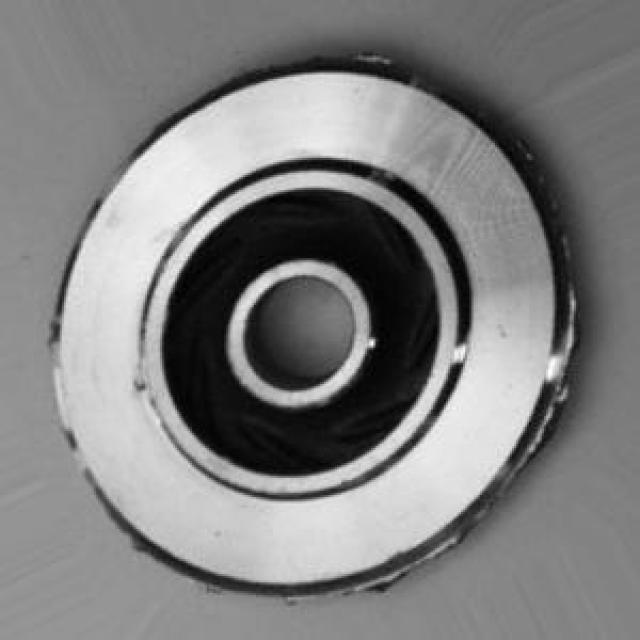Defect: (505, 120, 560, 202)
